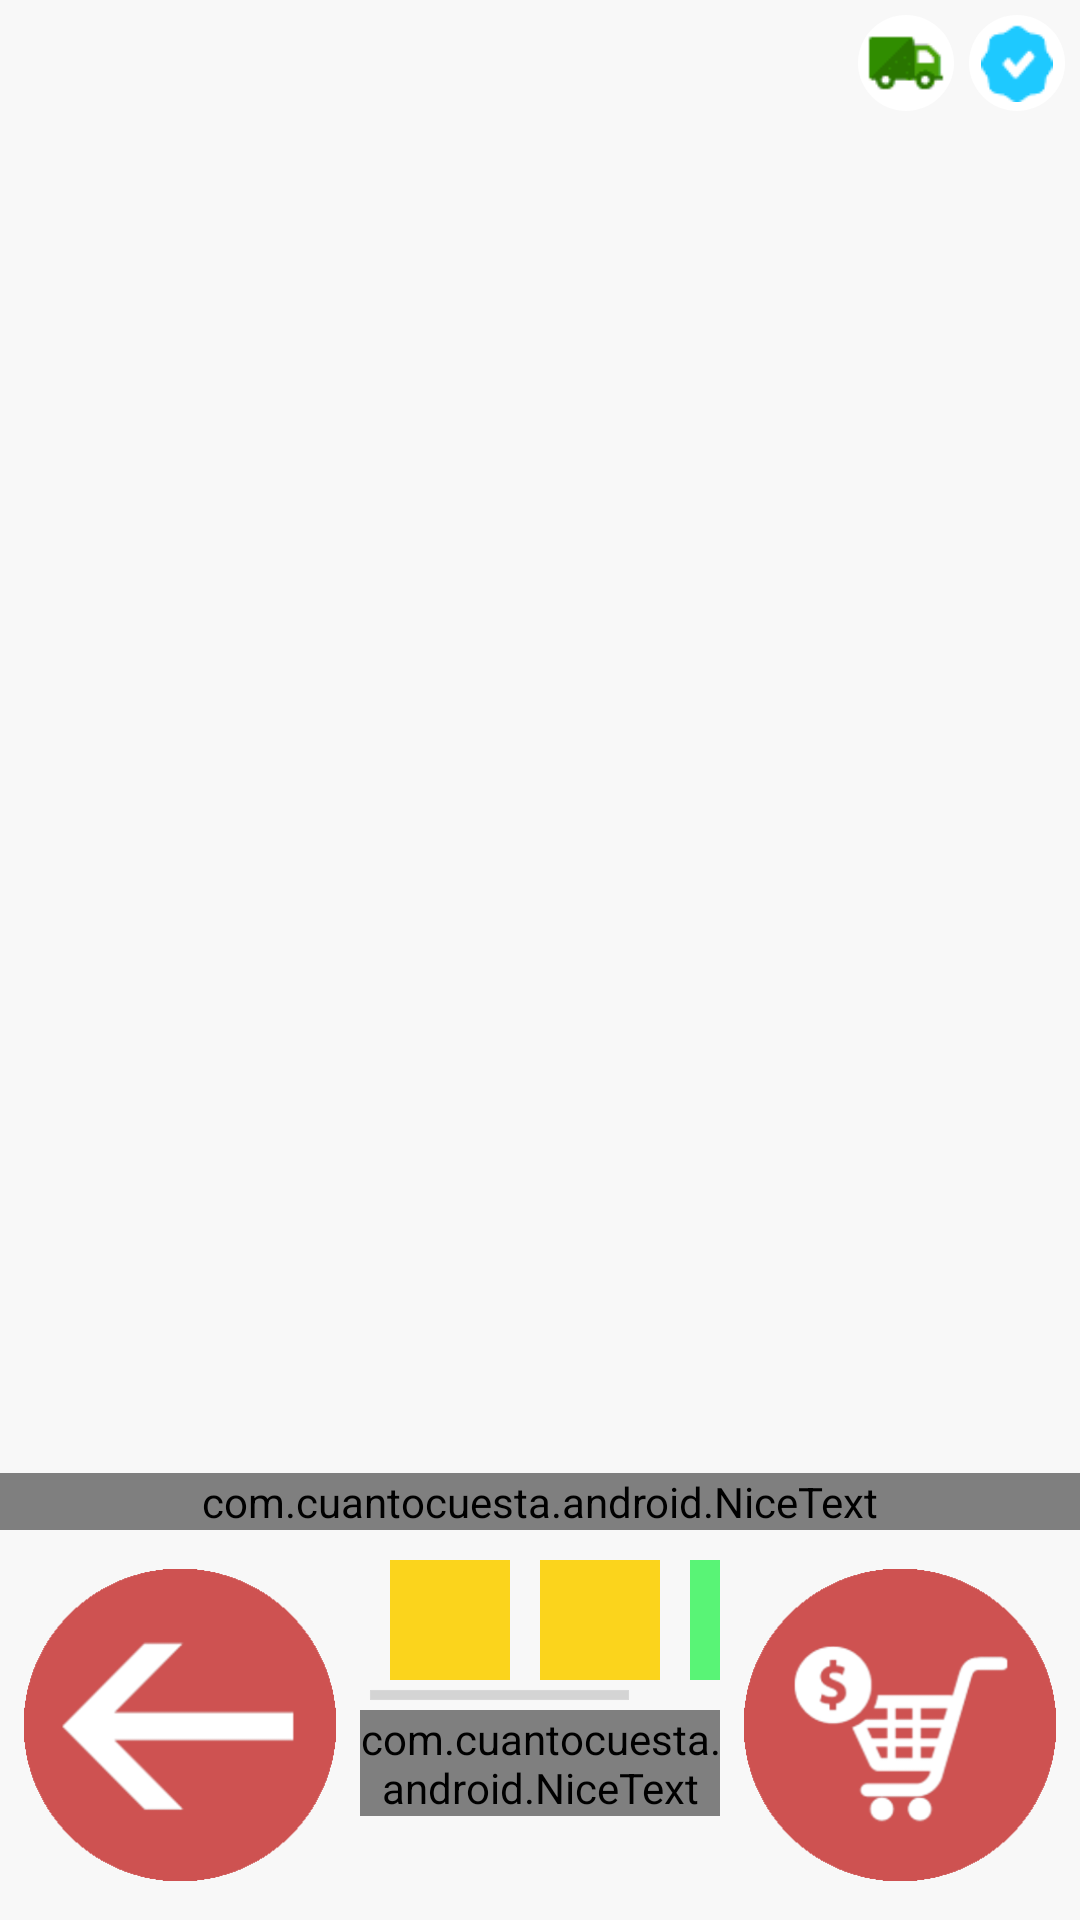

Icons on this 1080px×1920px Android screen, each with its box as (x1,y1,x2,y2):
back: (24,1569,336,1881)
free shipping: (868,36,944,90)
vendedor oficial: (981,25,1053,102)
